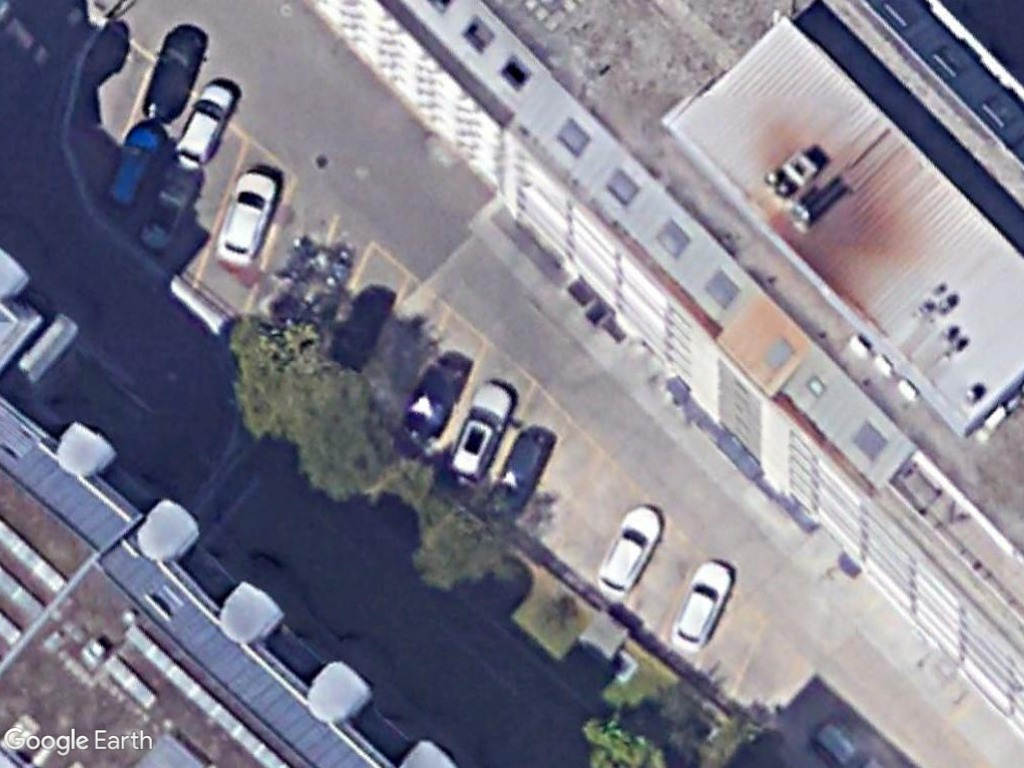car: (443, 380, 513, 488), (592, 503, 664, 599), (212, 169, 280, 270), (667, 558, 737, 655), (102, 118, 167, 217), (174, 78, 235, 169)
